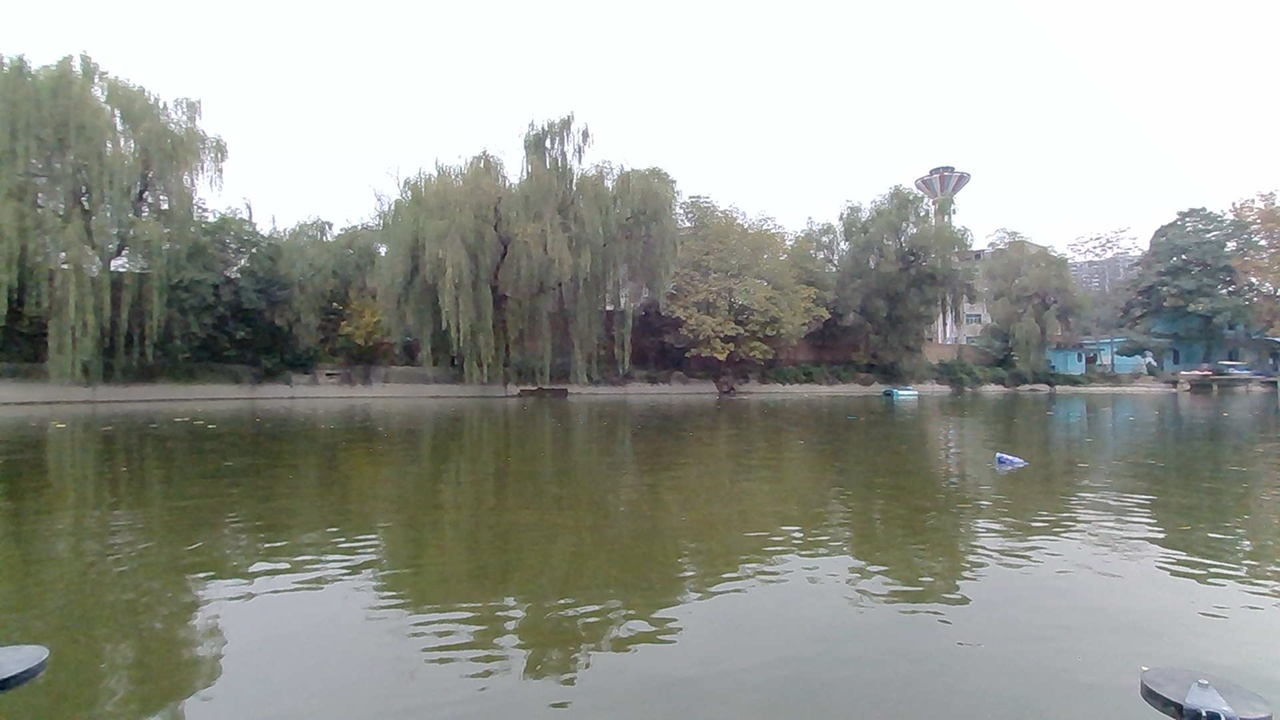bottle: (982, 447, 1027, 481)
